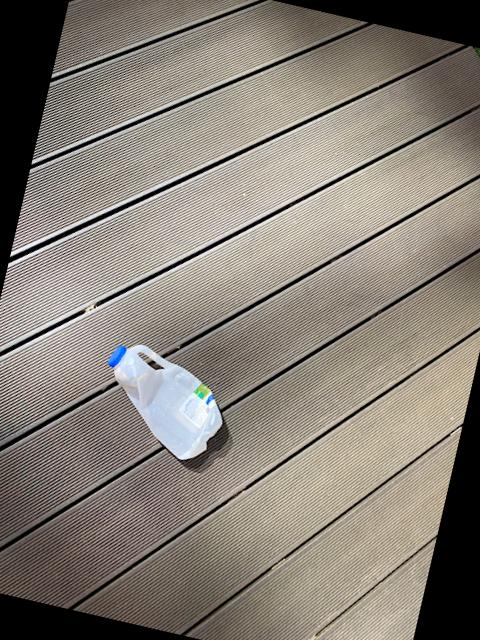plastic: (106, 342, 219, 456)
